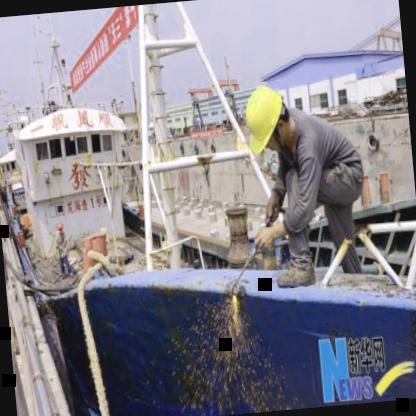helmet: (232, 77, 296, 160)
